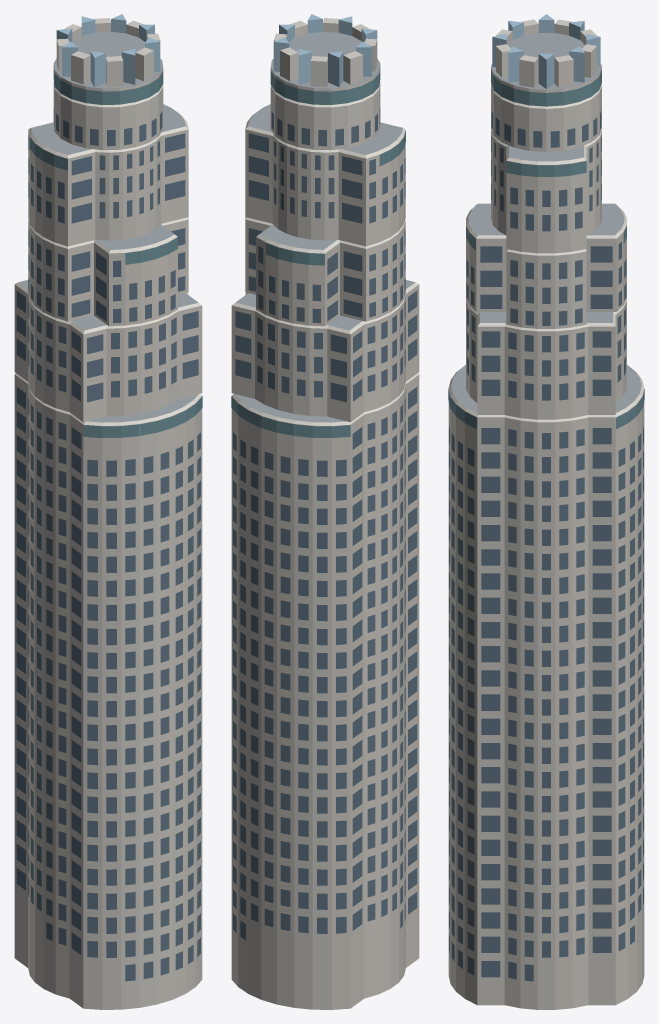
The model's file is la-us-bank-tower.glb.
The picture shows the model from 3 angles, left to right: view 1: azimuth 30°, elevation 25°; view 2: azimuth 150°, elevation 25°; view 3: azimuth 270°, elevation 25°; orthographic projection.
Visible parts, largest first — view 1: U.S. Bank Tower; view 2: U.S. Bank Tower; view 3: U.S. Bank Tower.
Part boxes in pixels (x1=…): U.S. Bank Tower: x1=14, y1=14, x2=202, y2=1009; U.S. Bank Tower: x1=231, y1=14, x2=419, y2=1009; U.S. Bank Tower: x1=448, y1=14, x2=644, y2=1009.
Size of the model in its own units: 48.24 by 310 by 58.7.
